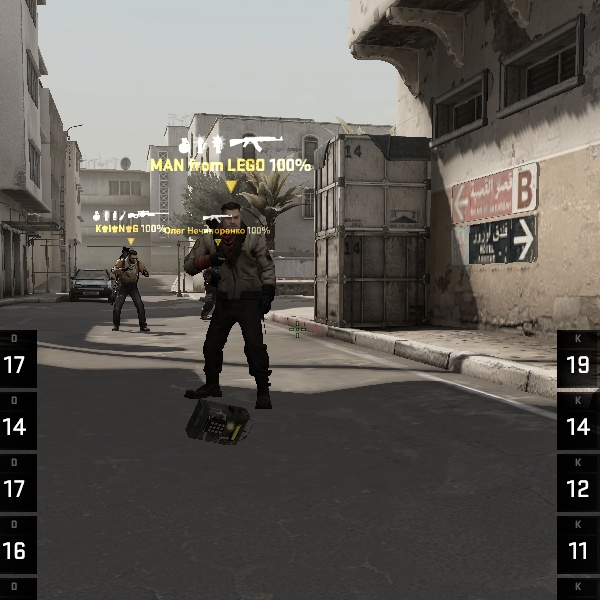t_body: (184, 202, 274, 409), (109, 249, 151, 331)
t_head: (220, 202, 241, 233), (128, 250, 138, 266)
